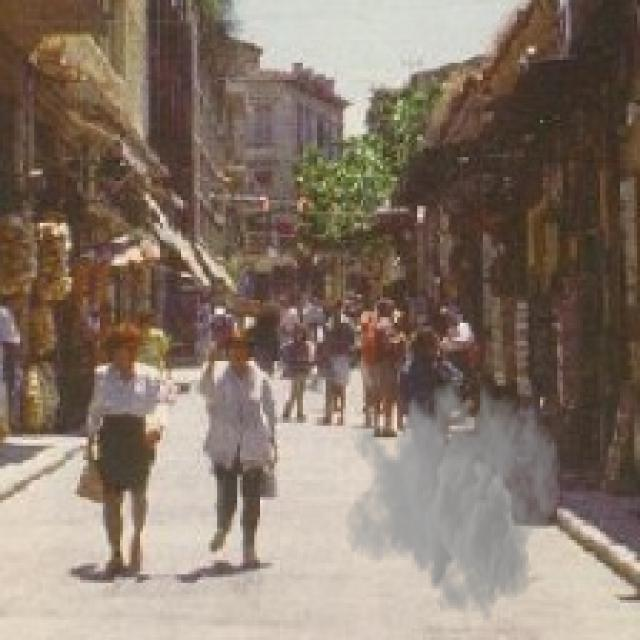Smoke: (343, 357, 563, 626)
